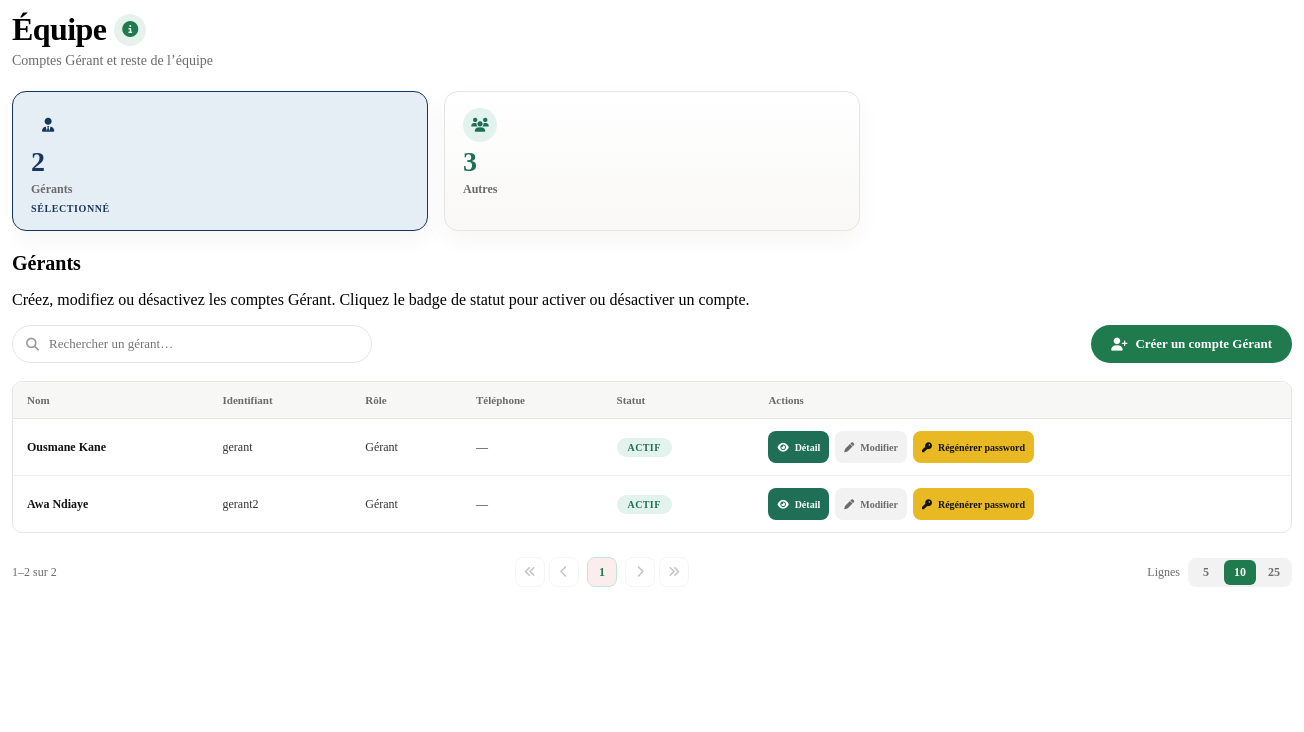
Test: Page Personnel (Admin) › bascule vers le groupe Autres : Accueil/Contrôleur en lecture seule, sans les Gérants
Expected: the element "Gérants" is shown, [12, 251, 1292, 587]
Click the tab "3 Autres" at x=480, y=125, box [444, 91, 860, 231]
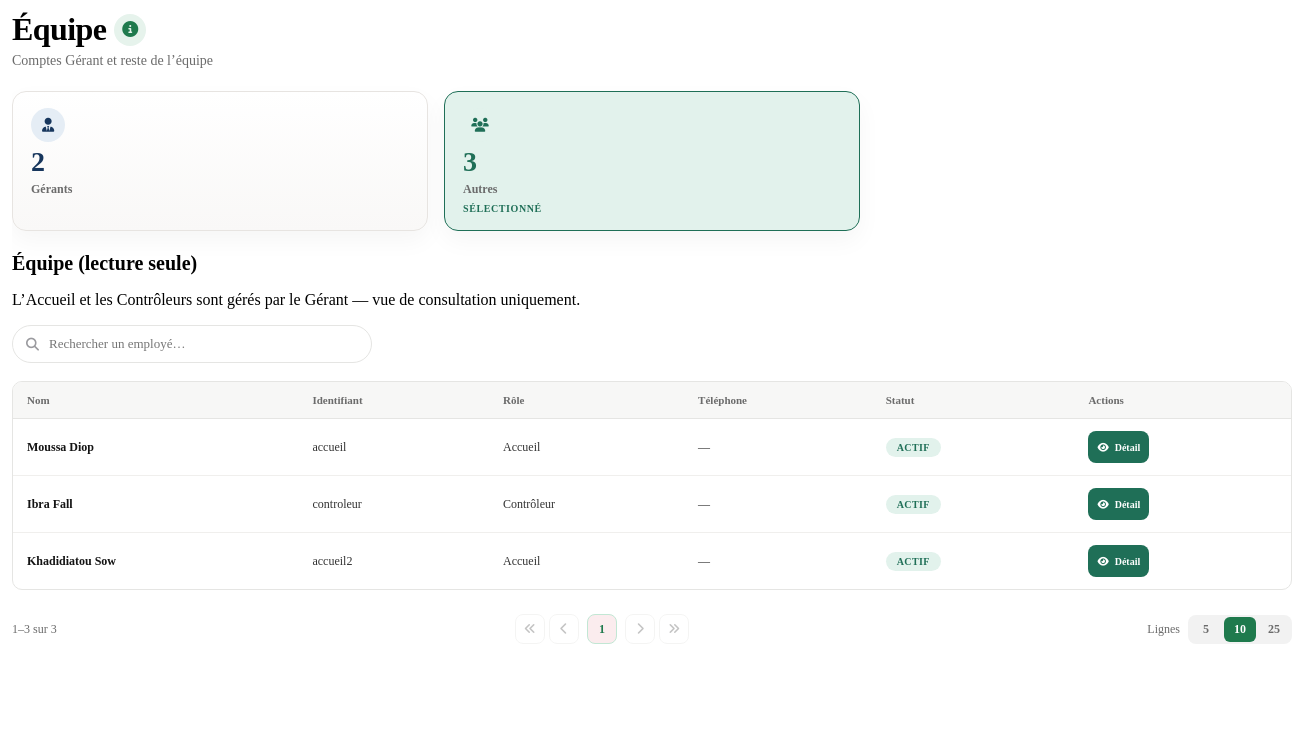
Expected: the text "Moussa Diop" is shown, [27, 440, 94, 454]
Expected: the text "Ibra Fall" is shown, [27, 497, 73, 511]
Expected: the text "Khadidiatou Sow" is shown, [27, 554, 116, 568]
